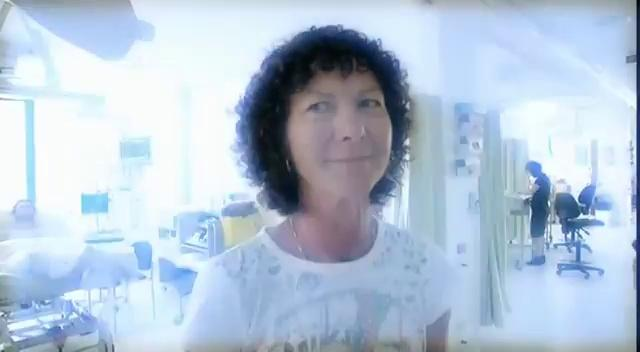others: (178, 23, 462, 351), (523, 159, 552, 265)
